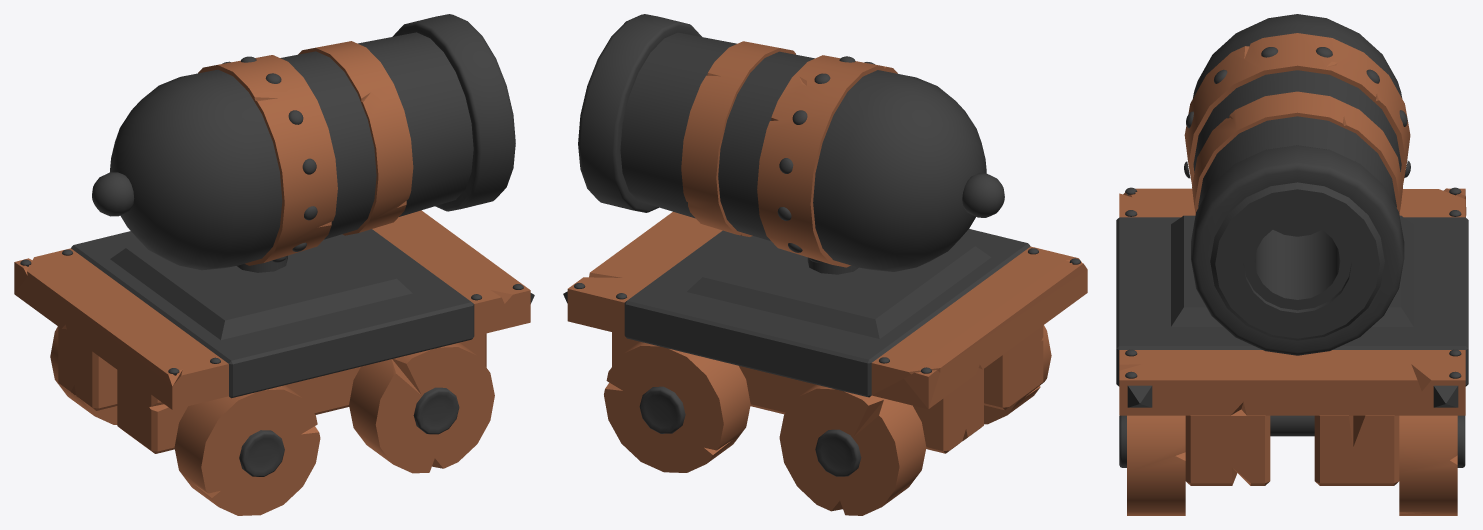
The model's file is pushkaVar2.fbx.
3 views of the same model, side by side, from view 1: azimuth 30°, elevation 25°; view 2: azimuth 150°, elevation 25°; view 3: azimuth 270°, elevation 25° (orthographic). The views are drawn at different scales.
Parts seen in each view (by area): view 1: Sphere.005, Cube.009, Cylinder.005, Cube.010; view 2: Sphere.005, Cube.009, Cylinder.005, Cube.010; view 3: Sphere.005, Cube.009, Cube.010, Cylinder.005.
Boxes of the visible parts, x1,y1,x2,y2 form: Sphere.005: (92,14,515,272); Cube.009: (14,210,534,409); Cylinder.005: (50,326,494,515); Cube.010: (58,327,486,453); Sphere.005: (578,14,1004,274); Cube.009: (563,212,1087,409); Cylinder.005: (604,325,1051,515); Cube.010: (612,325,1043,453); Sphere.005: (1184,14,1410,355); Cube.009: (1116,187,1468,415); Cube.010: (1185,409,1399,485); Cylinder.005: (1119,415,1465,515).
Bounding box in the file's own units: 353 × 329 × 257.
